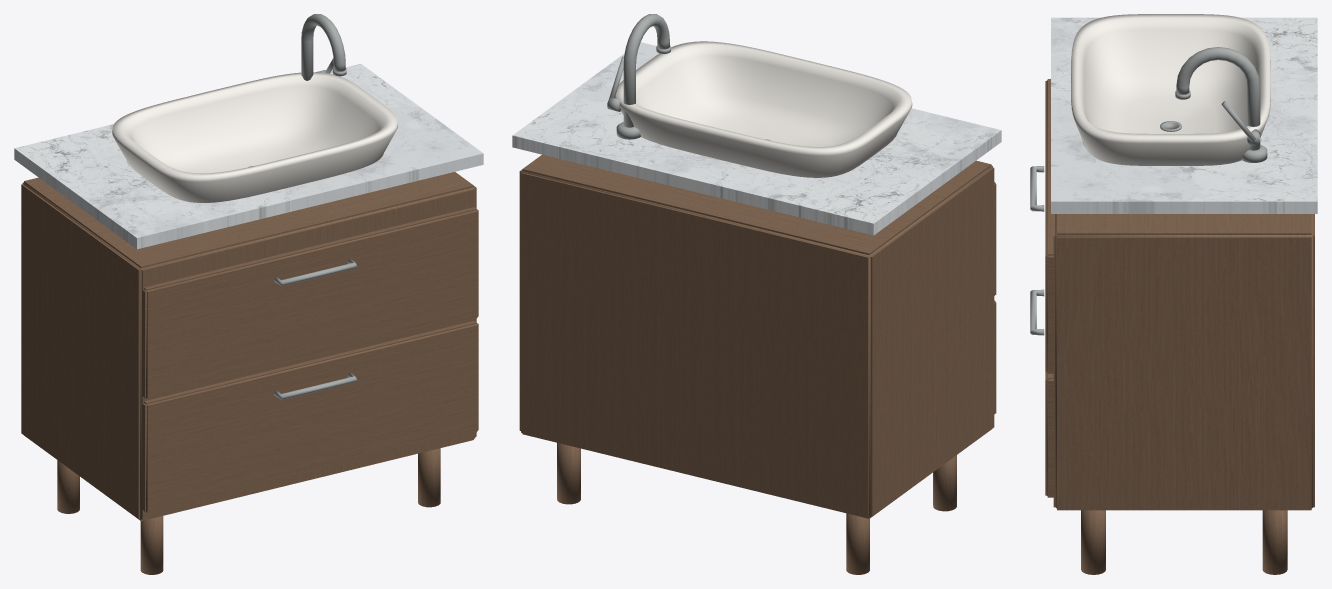
The model's file is industrial.vanity.gltf.
3 renders of one model, left to right at view 1: azimuth 30°, elevation 25°; view 2: azimuth 150°, elevation 25°; view 3: azimuth 270°, elevation 25°, orthographic. The views are drawn at different scales.
Parts seen in each view (by area): view 1: industrial.vanity.foot; view 2: industrial.vanity.foot; view 3: industrial.vanity.foot.
Boxes of the visible parts, x1,y1,x2,y2 form: industrial.vanity.foot: (14,14,483,574); industrial.vanity.foot: (512,14,1001,574); industrial.vanity.foot: (1030,14,1317,574).
Bounding box in the file's own units: 0.8 × 1.01 × 0.528.
Materials: 4 (2 with a texture image).
